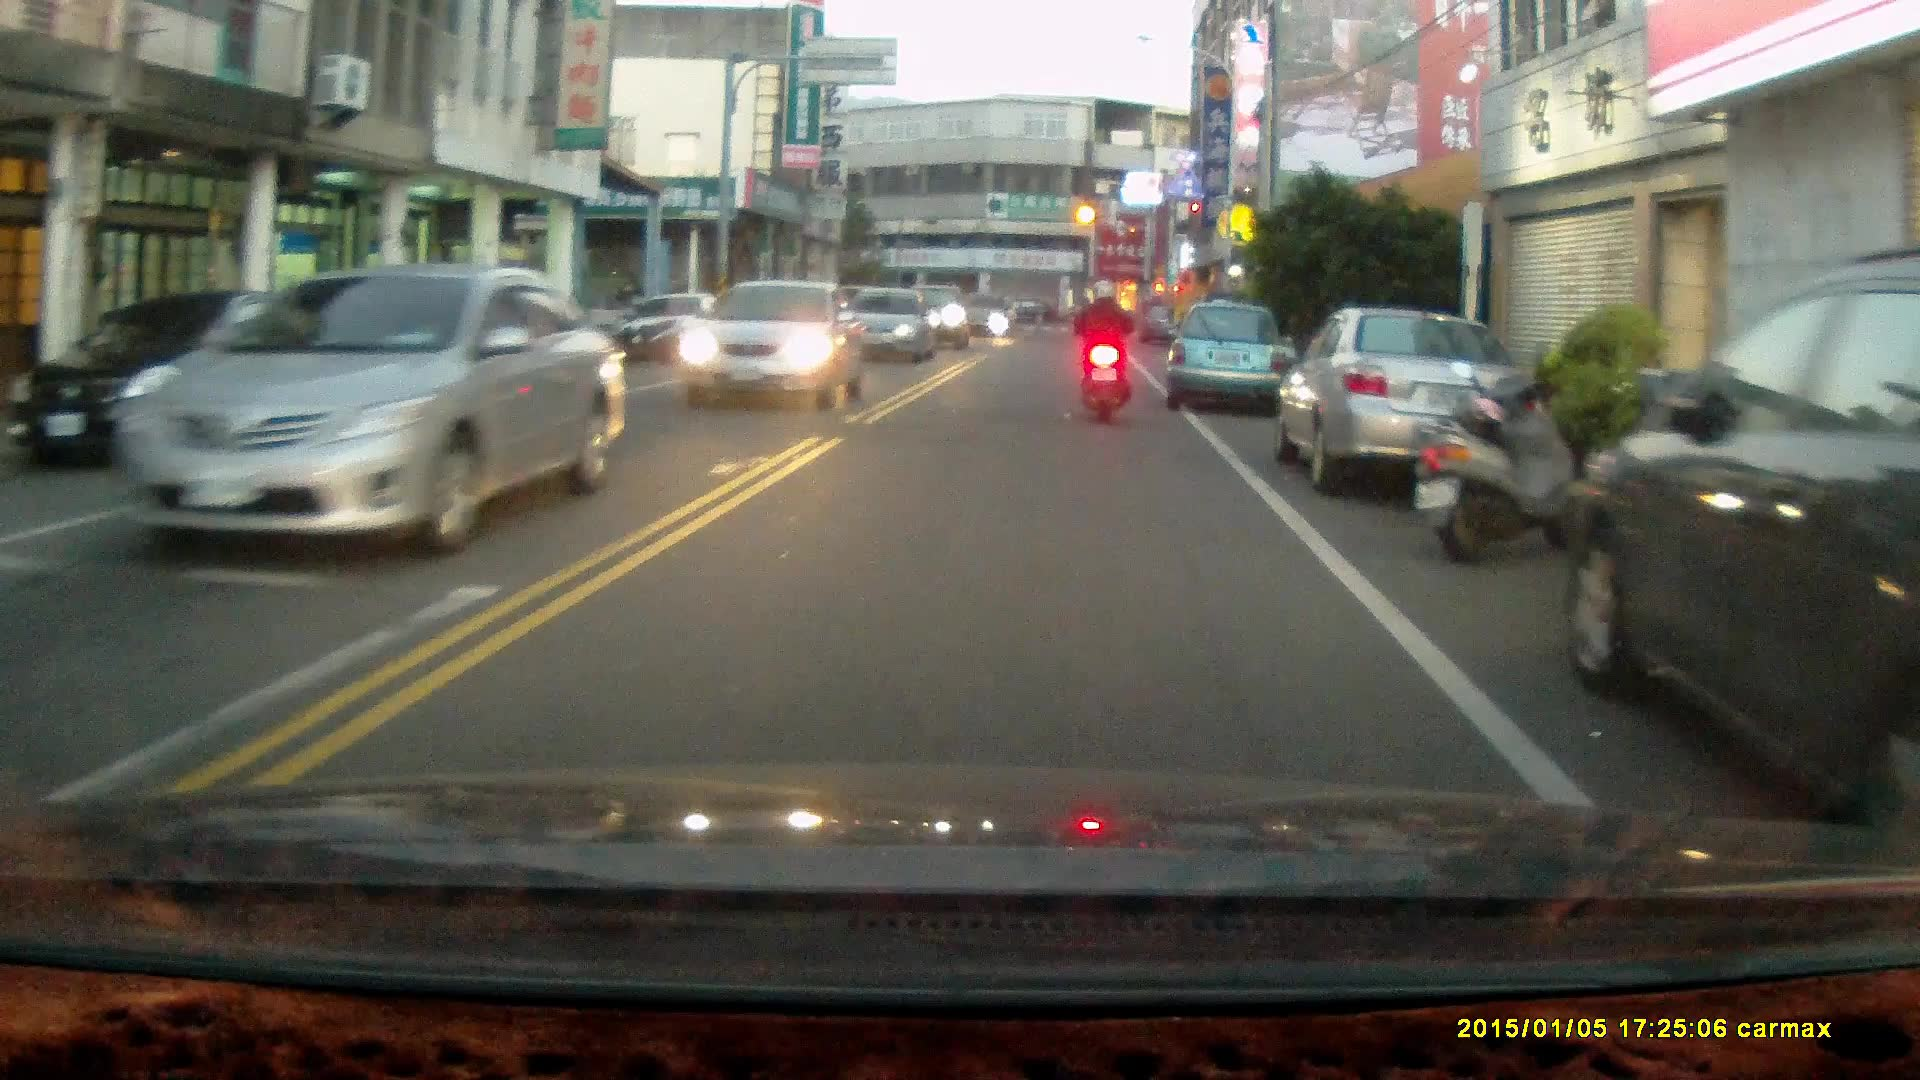rider: (1072, 276, 1132, 420)
vehicle: (1562, 246, 1920, 806), (109, 265, 635, 563), (9, 288, 400, 470), (1280, 301, 1525, 491), (674, 273, 866, 404), (1161, 300, 1293, 417), (832, 283, 941, 368)
